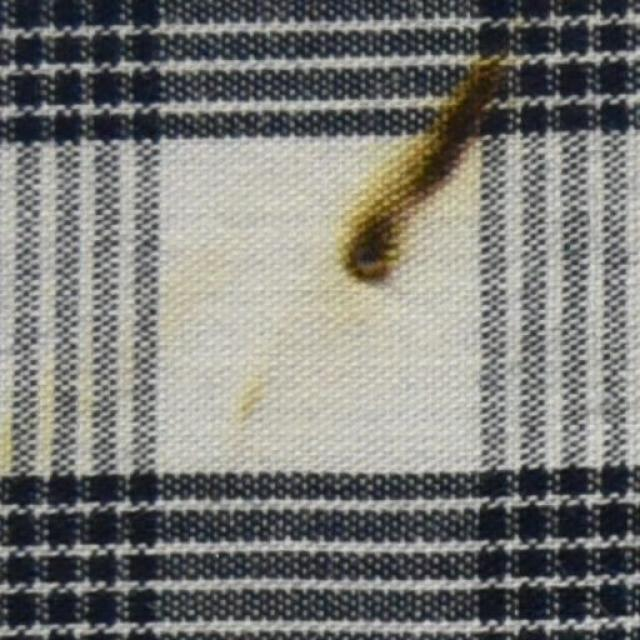Stain: (333, 70, 516, 299)
